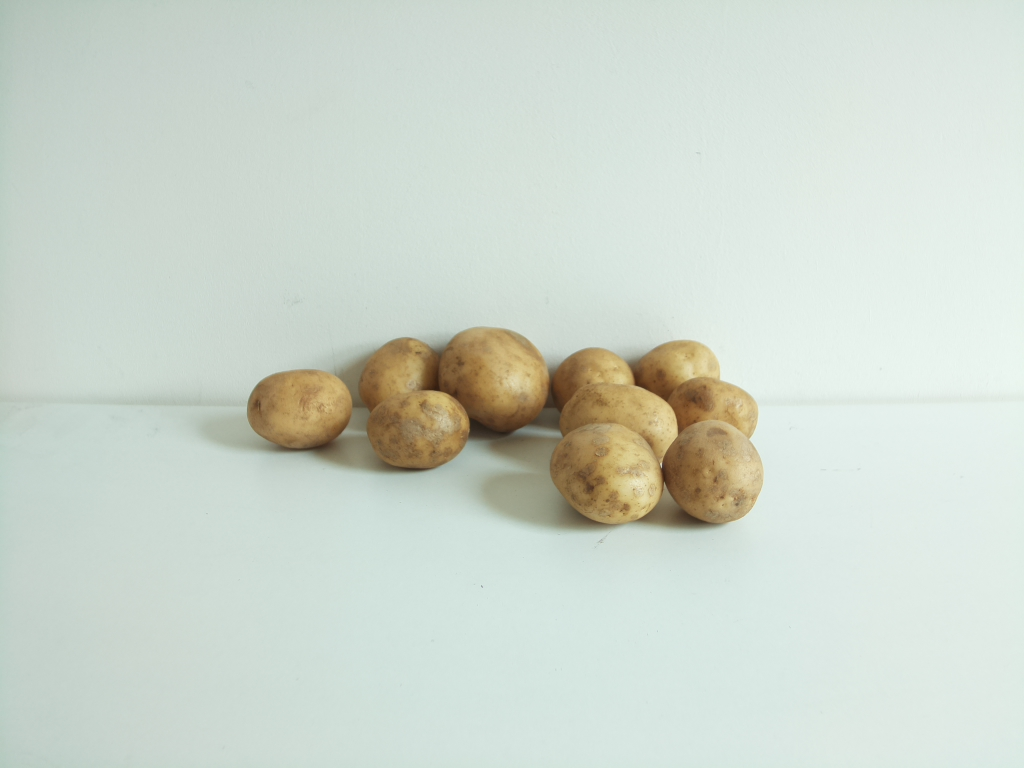potatoes: (245, 324, 766, 528)
